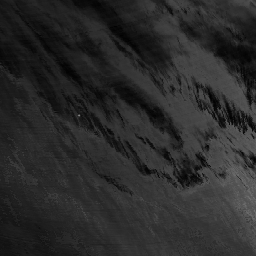Target: (76, 113, 80, 118)
